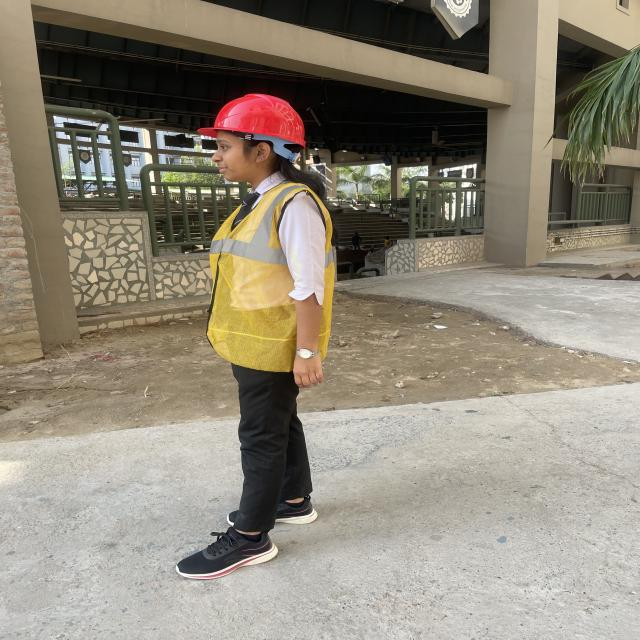safe: (177, 94, 332, 578)
